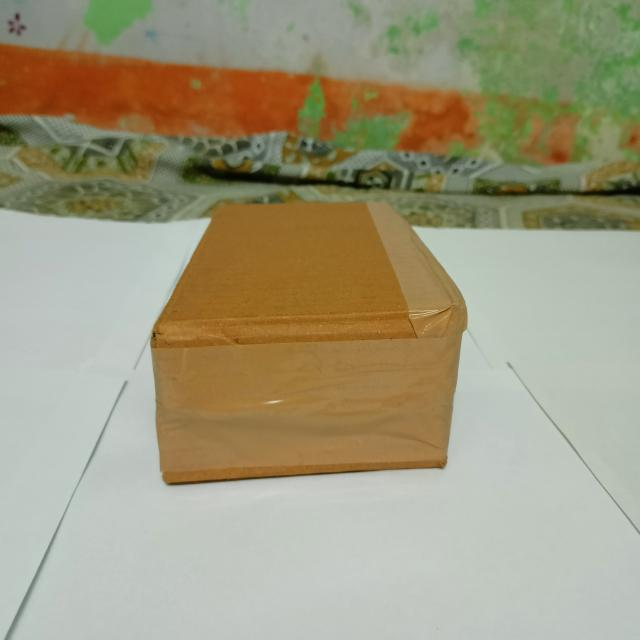box: (150, 203, 470, 489)
